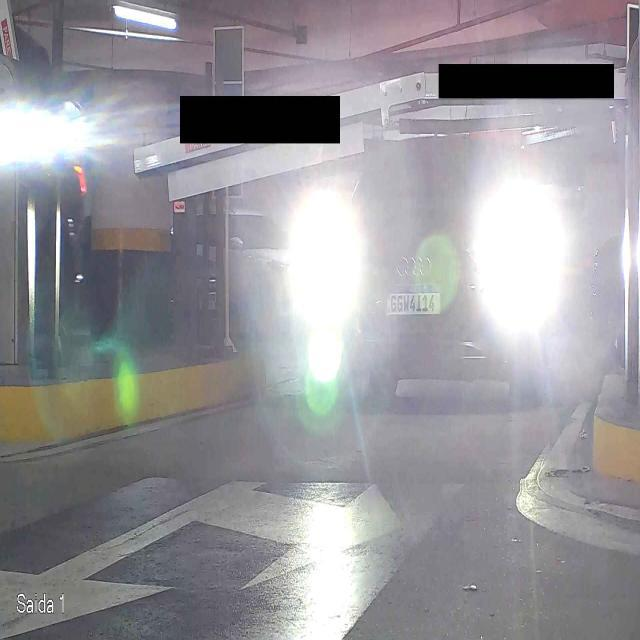mercosul_plate: (380, 280, 445, 317)
